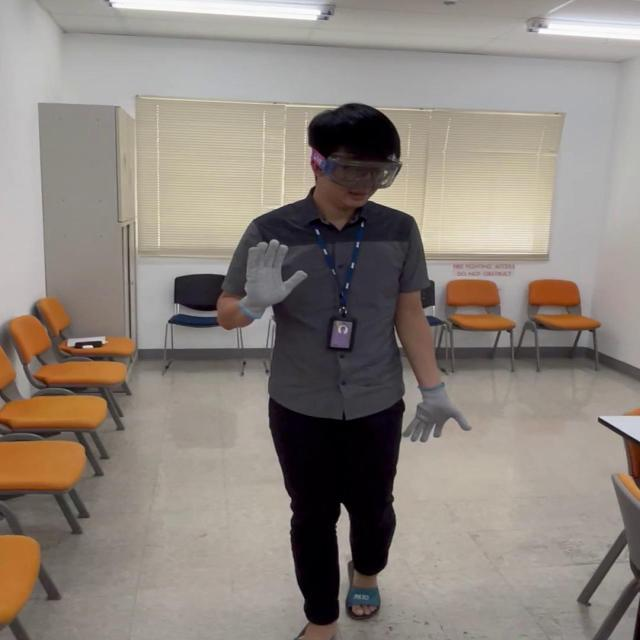gloved_hand: (235, 239, 304, 305), (399, 388, 469, 440)
